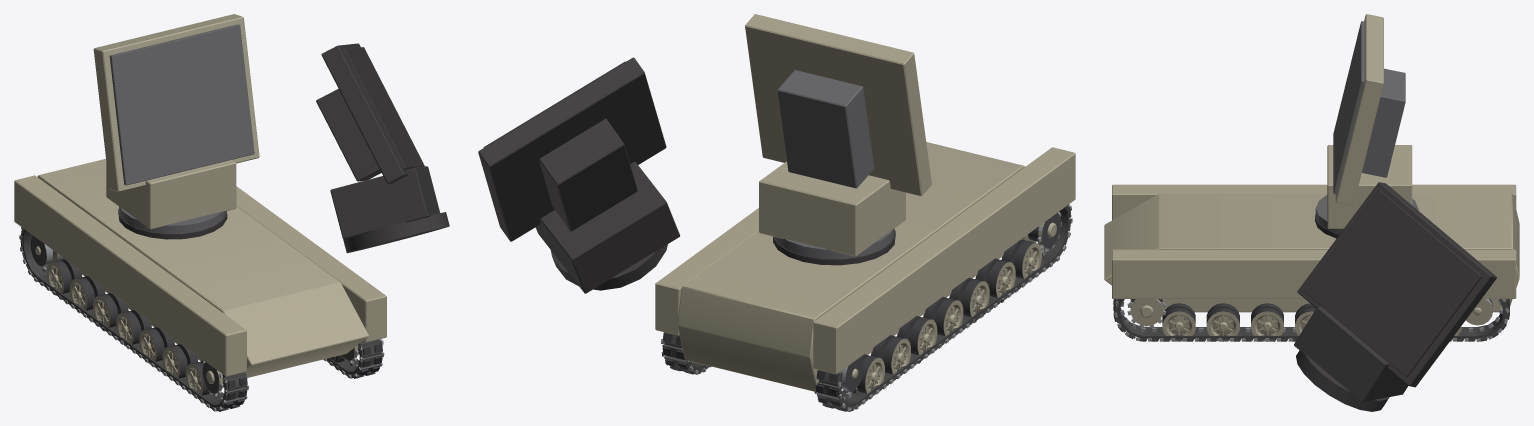
The model's file is counterBatteryRadar__zoopark_1m.glb.
The picture shows the model from 3 angles, left to right: view 1: azimuth 30°, elevation 25°; view 2: azimuth 150°, elevation 25°; view 3: azimuth 270°, elevation 25°; orthographic projection. The views are drawn at different scales.
Parts seen in each view (by area): view 1: Hull_Mesh, Gun_Mesh, Wreck, Turret_Mesh, Track_L_Mesh, Track_R_Mesh, Wheel_L3_Mesh, Wheel_L4_Mesh, Wheel_L2_Mesh, Wheel_L5_Mesh, Wheel_L0_Mesh, Wheel_L1_Mesh (+3 smaller); view 2: Hull_Mesh, Wreck, Gun_Mesh, Turret_Mesh, Track_L_Mesh, Wheel_L5_Mesh, Wheel_L6_Mesh, Wheel_L4_Mesh, Wheel_L2_Mesh, Wheel_L3_Mesh, Wheel_L1_Mesh, Track_R_Mesh (+3 smaller); view 3: Hull_Mesh, Wreck, Gun_Mesh, Turret_Mesh, Track_R_Mesh, Wheel_R5_Mesh, Wheel_R6_Mesh, Wheel_R4_Mesh, Sprocket_R_Mesh, Idler_R_Mesh, Wheel_R3_Mesh.
Part boxes in pixels (left/top/right/bottom): Hull_Mesh: left=14, top=159, right=386, bottom=377; Gun_Mesh: left=93, top=14, right=259, bottom=191; Wreck: left=19, top=43, right=449, bottom=411; Turret_Mesh: left=106, top=159, right=236, bottom=233; Track_L_Mesh: left=19, top=227, right=248, bottom=411; Track_R_Mesh: left=323, top=339, right=384, bottom=378; Wheel_L3_Mesh: left=116, top=309, right=151, bottom=346; Wheel_L4_Mesh: left=139, top=326, right=174, bottom=363; Wheel_L2_Mesh: left=93, top=293, right=128, bottom=328; Wheel_L5_Mesh: left=162, top=343, right=198, bottom=378; Wheel_L0_Mesh: left=46, top=259, right=82, bottom=295; Wheel_L1_Mesh: left=70, top=276, right=105, bottom=310; Hull_Mesh: left=655, top=142, right=1075, bottom=391; Wreck: left=478, top=57, right=1071, bottom=411; Gun_Mesh: left=745, top=14, right=931, bottom=196; Turret_Mesh: left=759, top=161, right=905, bottom=258; Track_L_Mesh: left=815, top=204, right=1072, bottom=411; Wheel_L5_Mesh: left=975, top=258, right=1015, bottom=299; Wheel_L6_Mesh: left=1001, top=239, right=1041, bottom=279; Wheel_L4_Mesh: left=949, top=277, right=989, bottom=318; Wheel_L2_Mesh: left=897, top=316, right=937, bottom=355; Wheel_L3_Mesh: left=923, top=297, right=963, bottom=336; Wheel_L1_Mesh: left=871, top=335, right=910, bottom=376; Track_R_Mesh: left=661, top=332, right=709, bottom=374; Hull_Mesh: left=1104, top=184, right=1519, bottom=312; Wreck: left=1113, top=182, right=1507, bottom=411; Gun_Mesh: left=1333, top=14, right=1405, bottom=205; Turret_Mesh: left=1315, top=145, right=1418, bottom=233; Track_R_Mesh: left=1113, top=299, right=1509, bottom=341; Wheel_R5_Mesh: left=1206, top=303, right=1239, bottom=341; Wheel_R6_Mesh: left=1162, top=303, right=1195, bottom=341; Wheel_R4_Mesh: left=1251, top=303, right=1283, bottom=341; Sprocket_R_Mesh: left=1127, top=299, right=1165, bottom=327; Idler_R_Mesh: left=1466, top=299, right=1492, bottom=325; Wheel_R3_Mesh: left=1295, top=303, right=1316, bottom=335.
Size of what is drawn, in the model's own units: 6.72 by 4.92 by 7.13.
